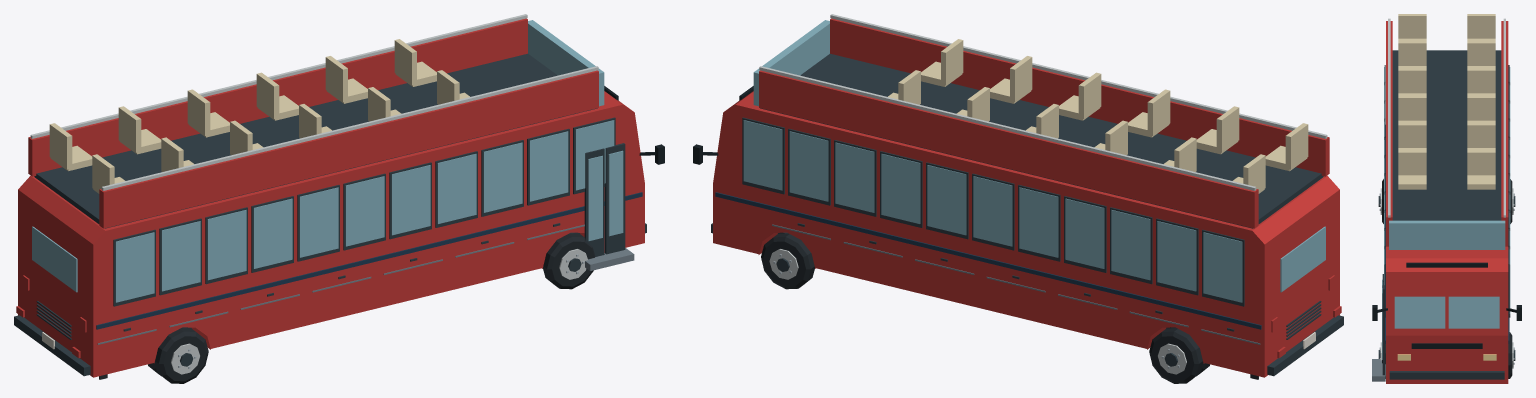
The model's file is b15_open_top_tour_bus.glb.
3 renders of one model, left to right at view 1: azimuth 30°, elevation 25°; view 2: azimuth 150°, elevation 25°; view 3: azimuth 270°, elevation 25°, orthographic. The views are drawn at different scales.
Visible parts, largest first — view 1: b15_open_top_tour_bus; view 2: b15_open_top_tour_bus; view 3: b15_open_top_tour_bus.
Part boxes in pixels (box(x1,y1,x2,y2)): b15_open_top_tour_bus: box(14, 14, 664, 383); b15_open_top_tour_bus: box(693, 14, 1343, 383); b15_open_top_tour_bus: box(1372, 14, 1521, 383).
Bounding box in the file's own units: 11.19 × 4.22 × 3.12.
